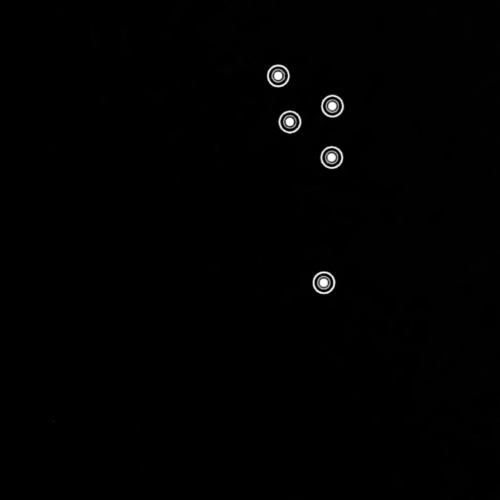delphinus: (258, 57, 350, 300)
